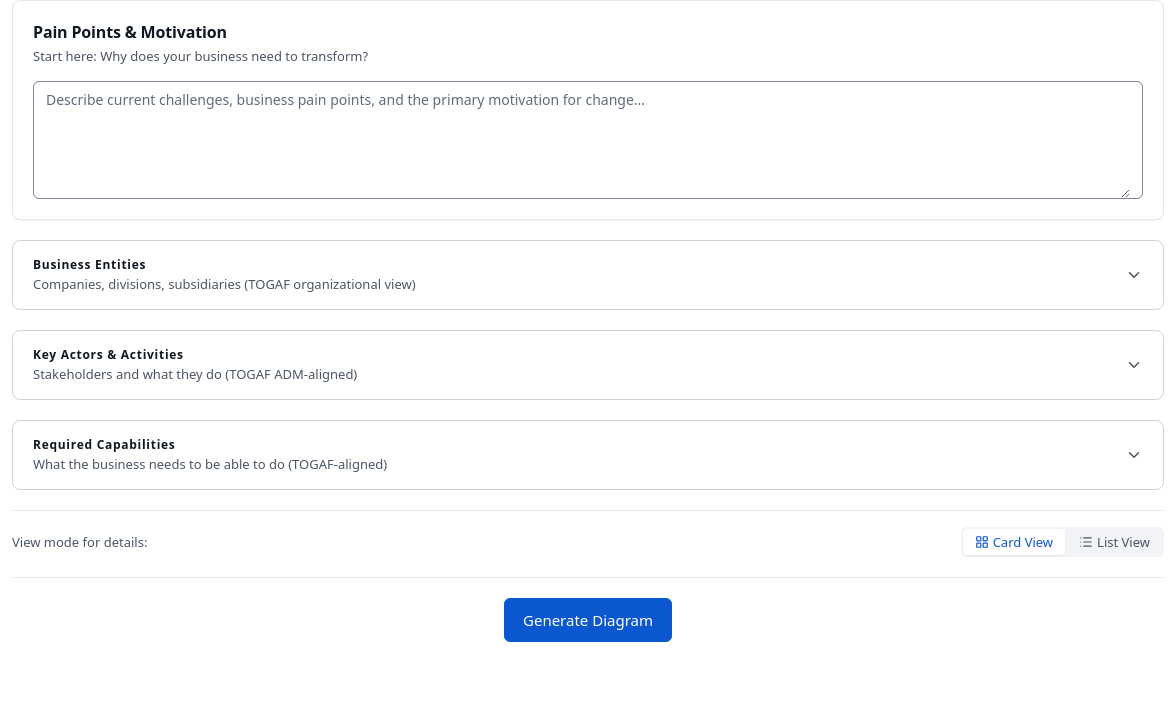
Test: ARIA Labels - Icon-Only Buttons › Edge Cases › handles empty names gracefully with "untitled" fallback
Click the button "Business Entities" at {"x": 90, "y": 264}, box top-left (13, 241), bottom-right (1163, 309)
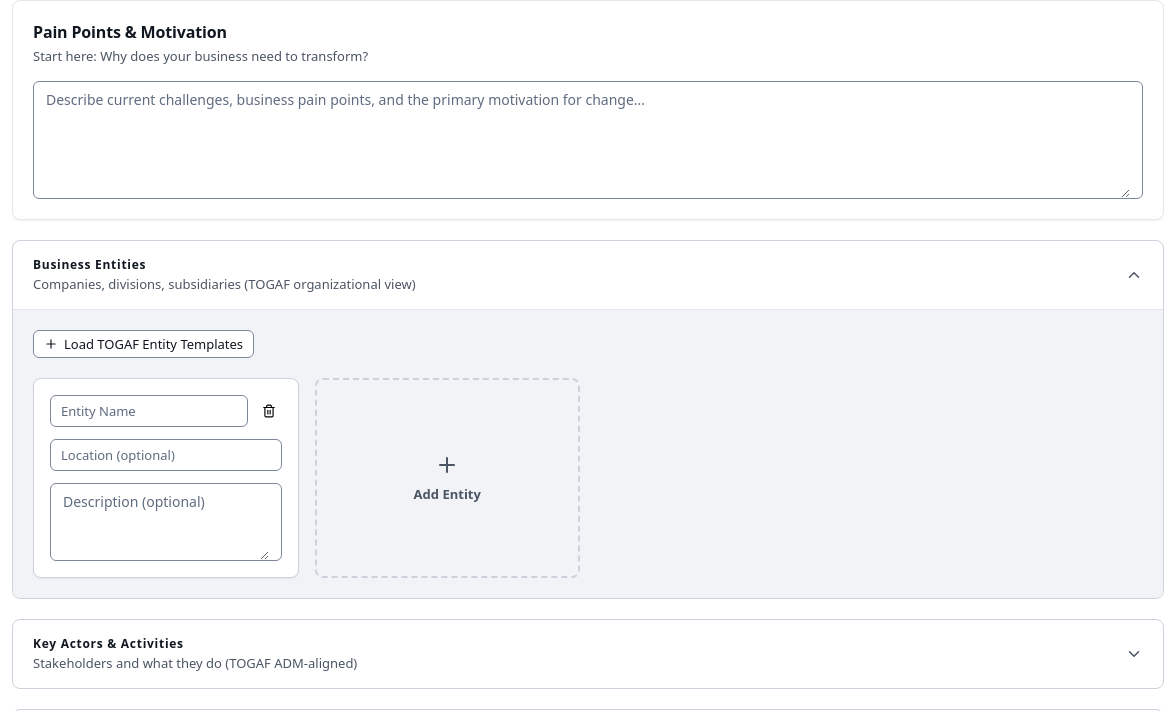
Check: the button named "remove entity untitled" is shown, box top-left (256, 397), bottom-right (282, 425)
